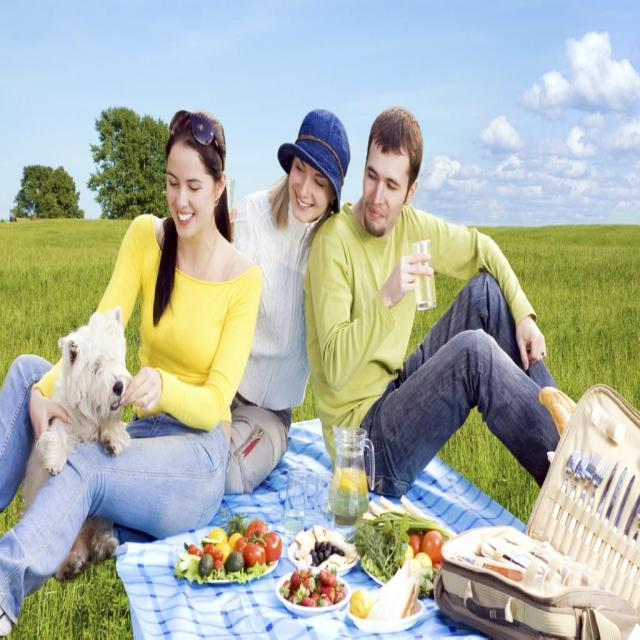Face: (350, 131, 422, 243), (156, 137, 225, 247), (272, 153, 330, 228)
